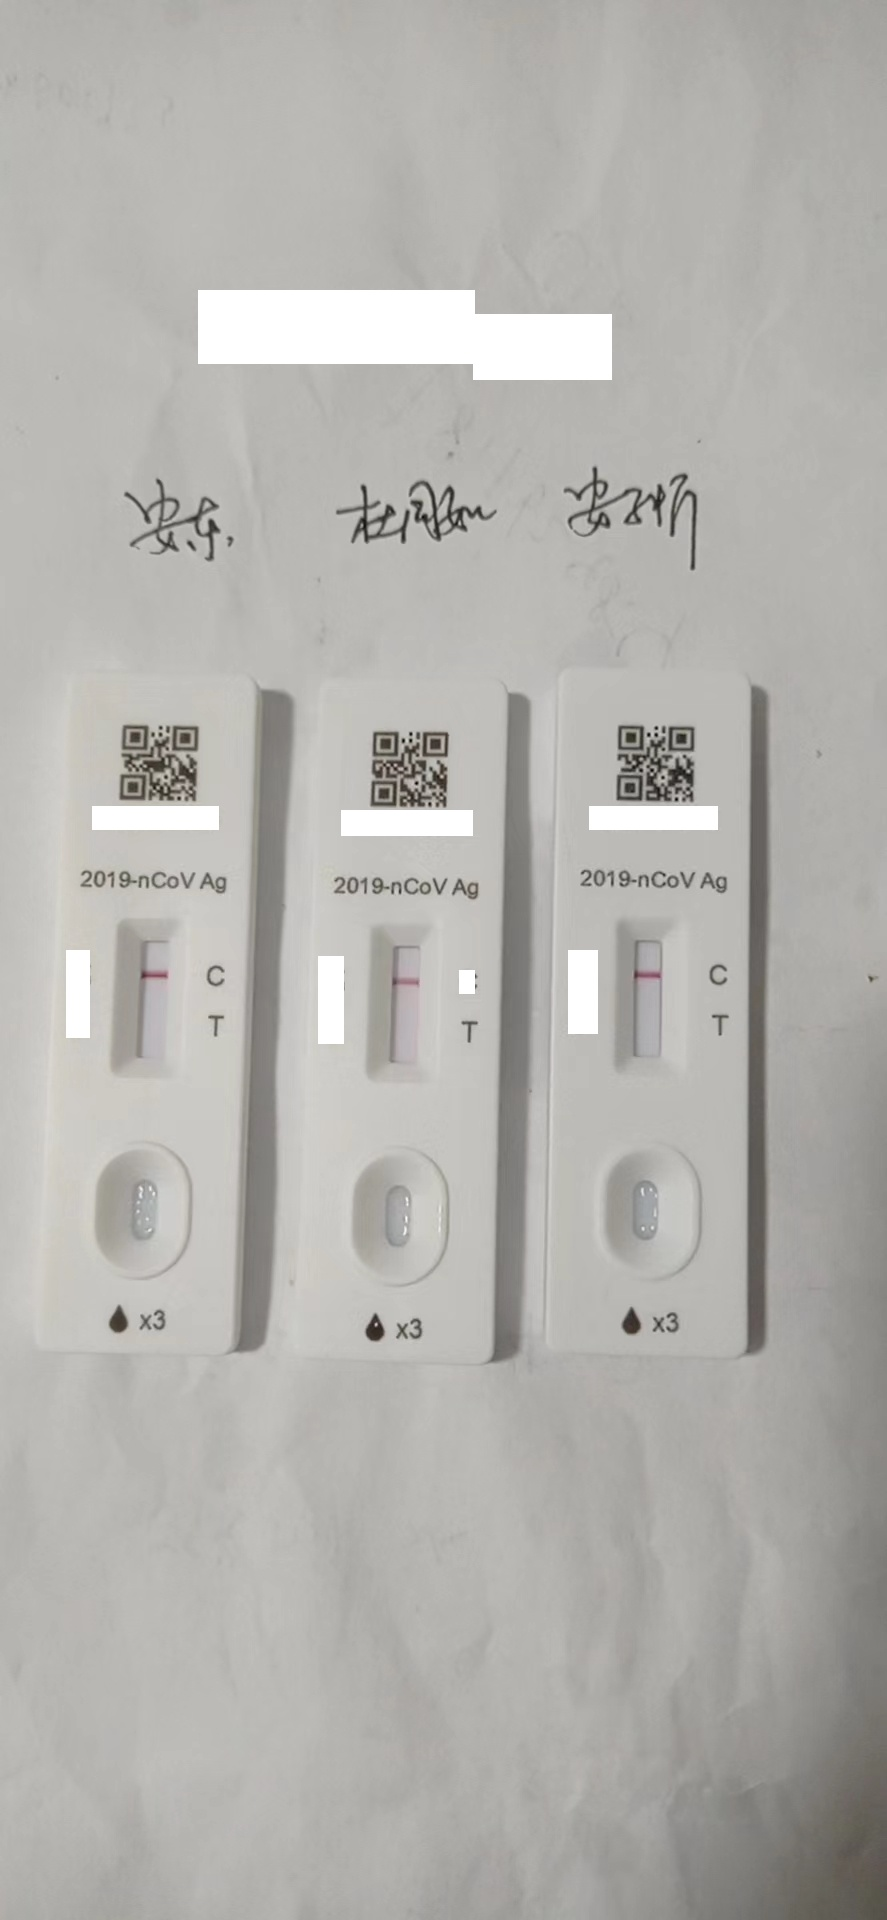negative: (111, 912, 187, 1079), (615, 916, 682, 1069), (369, 921, 432, 1082)
